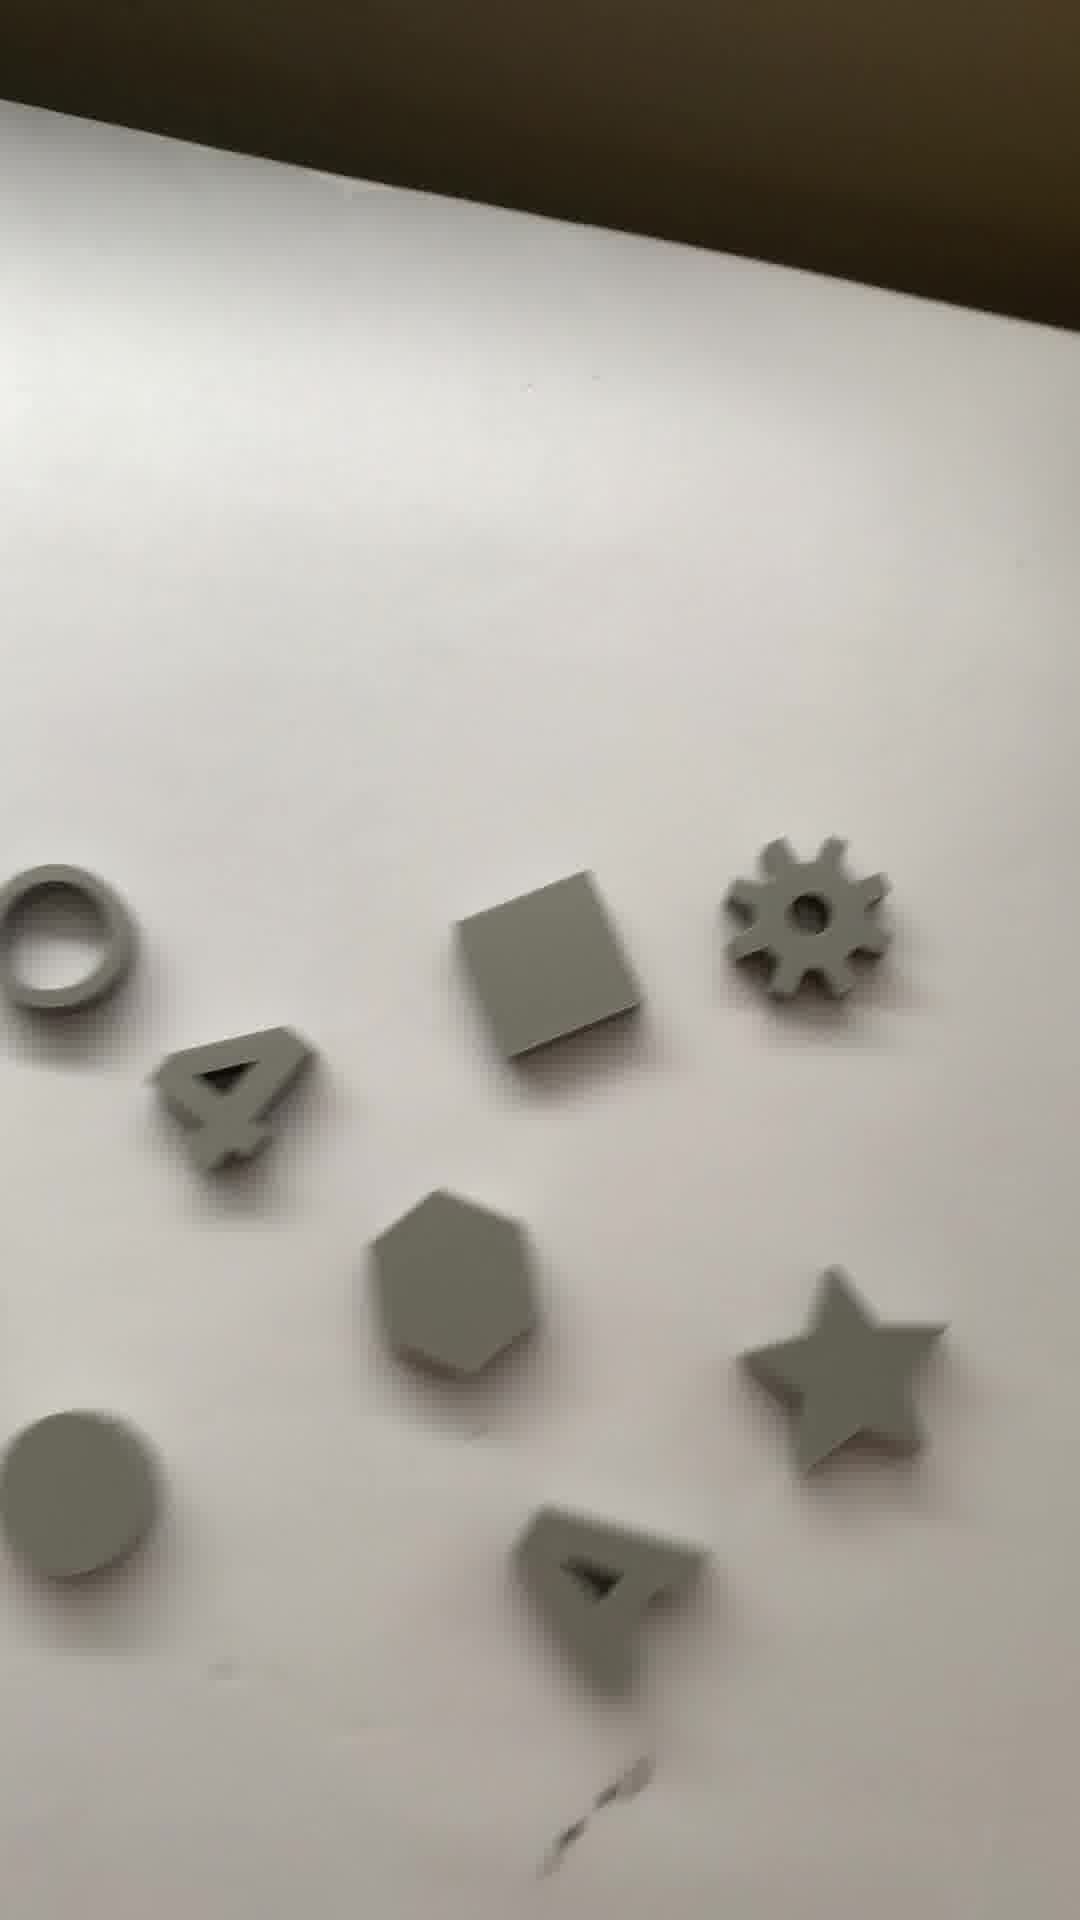Gray A-letter: (520, 1491, 704, 1679)
Gray circle: (1, 1410, 158, 1592)
Gray four: (156, 1026, 311, 1183)
Gray gear: (717, 833, 899, 1015)
Gray hexagon: (363, 1187, 545, 1393)
Gray ring: (1, 866, 142, 1055)
Gray square: (464, 869, 636, 1050)
Gray star: (745, 1263, 951, 1484)
